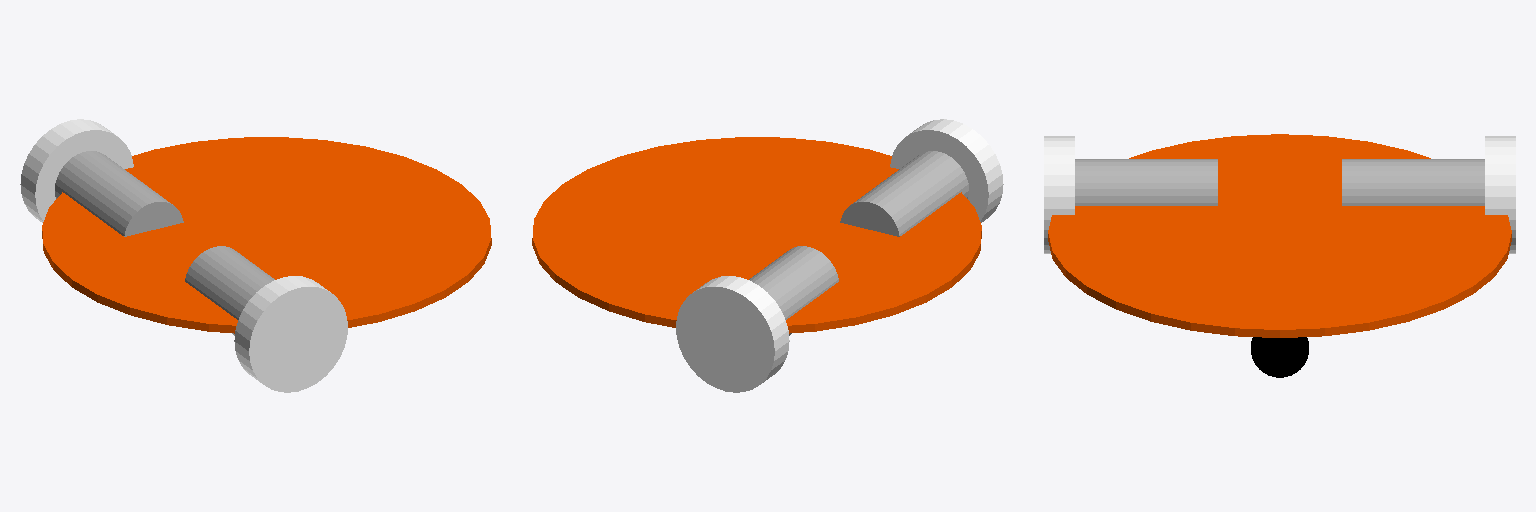
The robot description file, URDF, robot "mrobot_chassis":
<?xml version="1.0" ?>
<robot name="mrobot_chassis">
<!-- 机器人描述文件中的根元素必须是robot，所有其他元素必须被包含在其中 -->

    <link name="base_link">
    <!-- <link>元素描述了一个具有惯性、视觉特征和碰撞属性的刚体；name:link本身的名称 -->
        <visual>
        <!-- link的视觉属性 -->
            <origin xyz=" 0 0 0" rpy="0 0 0" />
            <!-- visual元素相对于link参考系的参考系 -->
            <geometry>
            <!-- visual对象的形状 -->
                <cylinder length="0.005" radius="0.13"/>
                <!-- 指定半径和长度，圆柱体的原点在其中心 -->
            </geometry>
            <material name="yellow">
            <!-- visual元素的材料；name:材料的名称 -->
                <color rgba="1 0.4 0 1"/>
                <!-- rgba指定颜色的方式，由一组四个数字表示红/绿/蓝/透明度，每个数字范围为[0,1] -->
            </material>
        </visual>
    </link>

    <joint name="base_left_motor_joint" type="fixed">
    <!-- joint元素描述了关节的运动学和动力学属性，并指定了关节的安全限制；name:指定关节的唯一名称；type:指定关节的类型 -->
        <origin xyz="-0.055 0.075 0" rpy="0 0 0" />
        <!-- 这是parent link到child link的变换。关节位于child link的原点；xyz:表示x、y、z偏移量；rpy:表示绕固定轴的旋转
        首先绕x轴进行回转（roll），然后绕y轴进行俯仰（pitch），最后绕z轴进行偏转（yaw） -->
        <parent link="base_link"/>
        <!-- 父链接的名称，具有必填属性 -->
        <child link="left_motor" />
        <!-- 自链接名称带强制属性 -->
    </joint>

    <link name="left_motor">
        <visual>
            <origin xyz="0 0 0" rpy="1.5707 0 0" />
            <geometry>
                <cylinder radius="0.02" length = "0.08"/>
            </geometry>
            <material name="gray">
                <color rgba="0.75 0.75 0.75 1"/>
            </material>
        </visual>
    </link>

    <joint name="left_wheel_joint" type="continuous">
        <origin xyz="0 0.0485 0" rpy="0 0 0"/>
        <parent link="left_motor"/>
        <child link="left_wheel_link"/>
        <axis xyz="0 1 0"/>
        <!-- axis:在关节坐标系中指定的关节轴；xyz:表示向量的(x,y,z)分量。该向量应被归一化 -->
    </joint>

    <link name="left_wheel_link">
        <visual>
            <origin xyz="0 0 0" rpy="1.5707 0 0" />
            <geometry>
                <cylinder radius="0.033" length = "0.017"/>
            </geometry>
            <material name="white">
                <color rgba="1 1 1 0.9"/>
            </material>
        </visual>
    </link>

    <joint name="base_right_motor_joint" type="fixed">
        <origin xyz="-0.055 -0.075 0" rpy="0 0 0" />        
        <parent link="base_link"/>
        <child link="right_motor" />
    </joint>

    <link name="right_motor">
        <visual>
            <origin xyz="0 0 0" rpy="1.5707 0 0" />
            <geometry>
                <cylinder radius="0.02" length = "0.08" />
            </geometry>
            <material name="gray">
                <color rgba="0.75 0.75 0.75 1"/>
            </material>
        </visual>
    </link>

    <joint name="right_wheel_joint" type="continuous">
        <origin xyz="0 -0.0485 0" rpy="0 0 0"/>
        <parent link="right_motor"/>
        <child link="right_wheel_link"/>
        <axis xyz="0 1 0"/>
    </joint>

    <link name="right_wheel_link">
        <visual>
            <origin xyz="0 0 0" rpy="1.5707 0 0" />
            <geometry>
                <cylinder radius="0.033" length = "0.017"/>
            </geometry>
            <material name="white">
                <color rgba="1 1 1 0.9"/>
            </material>
        </visual>
    </link>

    <joint name="front_caster_joint" type="fixed">
        <origin xyz="0.1135 0 -0.0165" rpy="0 0 0"/>
        <parent link="base_link"/>
        <child link="front_caster_link"/>
    </joint>

    <link name="front_caster_link">
        <visual>
            <origin xyz="0 0 0" rpy="1.5707 0 0"/>
            <geometry>
                <sphere radius="0.0165" />
                <!-- 指定半径。球的原点在其中心 -->
            </geometry>
            <material name="black">
                <color rgba="0 0 0 0.95"/>
            </material>
        </visual>
    </link>

</robot>

--- What the picture shows (computed from the rendered views, not written in the file) ---
3 views of the same robot in one strip: view 1: azimuth 30°, elevation 25°; view 2: azimuth 150°, elevation 25°; view 3: azimuth 270°, elevation 25° (orthographic).
Robot: mrobot_chassis — 6 links, 5 joints (2 continuous, 3 fixed); root link base_link; default pose: every joint at zero.
Visible links, largest first — view 1: base_link, right_wheel_link, left_motor, left_wheel_link, right_motor; view 2: base_link, left_wheel_link, right_motor, right_wheel_link, left_motor; view 3: base_link, left_motor, right_motor, left_wheel_link, right_wheel_link, front_caster_link.
Boxes of the visible links, <box> form: base_link: <box>42,137,491,333</box>; right_wheel_link: <box>234,276,347,392</box>; left_motor: <box>55,151,183,236</box>; left_wheel_link: <box>20,119,133,222</box>; right_motor: <box>185,246,274,335</box>; base_link: <box>532,137,981,333</box>; left_wheel_link: <box>676,276,789,392</box>; right_motor: <box>840,151,968,236</box>; right_wheel_link: <box>890,119,1003,222</box>; left_motor: <box>749,246,838,335</box>; base_link: <box>1048,134,1511,337</box>; left_motor: <box>1342,159,1484,205</box>; right_motor: <box>1075,159,1217,205</box>; left_wheel_link: <box>1485,136,1515,253</box>; right_wheel_link: <box>1044,136,1074,253</box>; front_caster_link: <box>1251,337,1308,377</box>.
Size in the robot's own frame: 0.26 by 0.264 by 0.066 metres.
Geometry: primitives only (box / cylinder / sphere), no mesh files.
